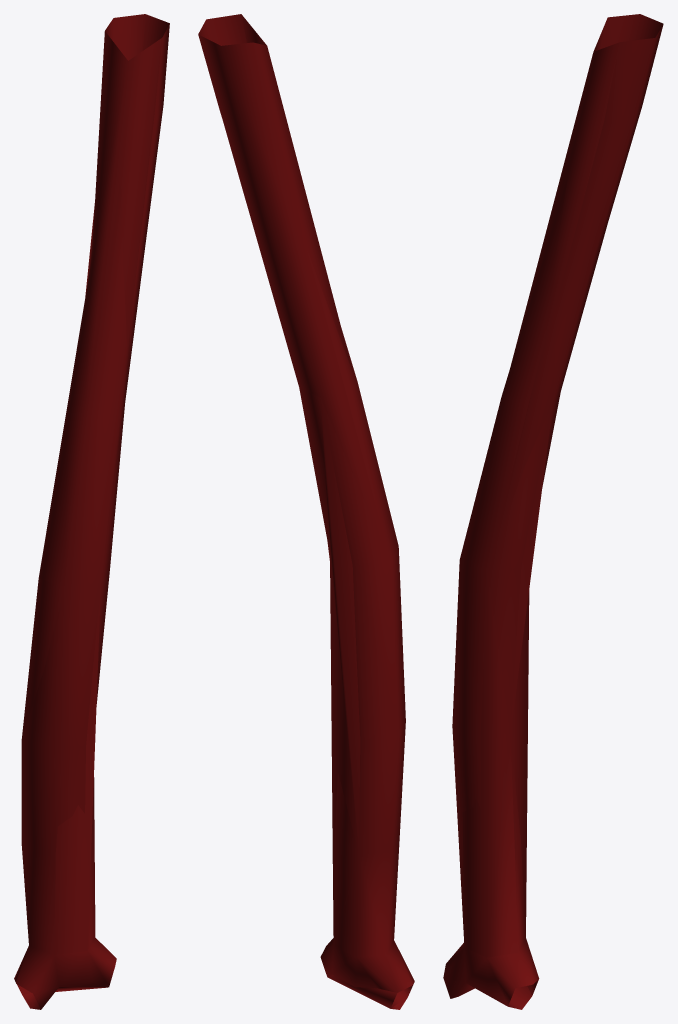
The model's file is R digitalis palmaris communis II.fbx.
3 views of the same model, side by side, from view 1: azimuth 30°, elevation 25°; view 2: azimuth 150°, elevation 25°; view 3: azimuth 330°, elevation 25° (orthographic). The views are drawn at different scales.
Visible parts, largest first — view 1: R digitalis palmaris communis II, R digitalis palmaris communis II low; view 2: R digitalis palmaris communis II low, R digitalis palmaris communis II; view 3: R digitalis palmaris communis II, R digitalis palmaris communis II low.
Boxes of the visible parts, x1=… form: R digitalis palmaris communis II: x1=14, y1=14, x2=169, y2=1009; R digitalis palmaris communis II low: x1=21, y1=14, x2=169, y2=1009; R digitalis palmaris communis II low: x1=198, y1=14, x2=410, y2=1008; R digitalis palmaris communis II: x1=213, y1=14, x2=414, y2=1009; R digitalis palmaris communis II: x1=443, y1=14, x2=663, y2=1009; R digitalis palmaris communis II low: x1=446, y1=42, x2=619, y2=1005.
Size of the model in its own units: 1.2 by 6.04 by 0.7747.
